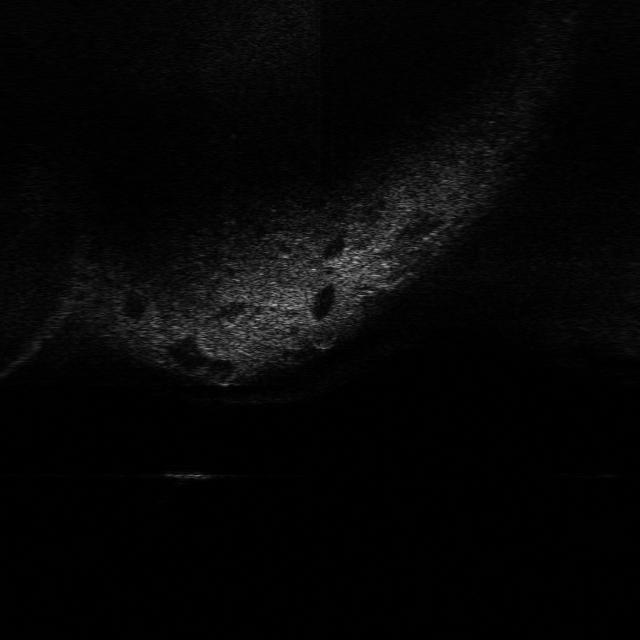ball: (303, 319, 342, 350)
cube: (158, 461, 213, 485)
